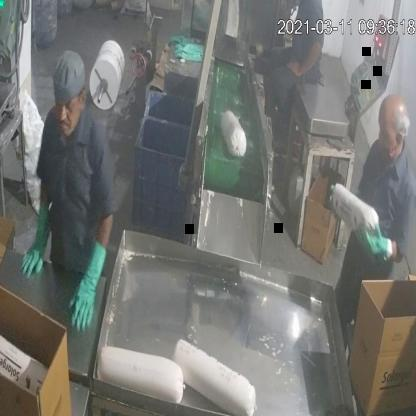glove: (63, 239, 116, 338), (23, 205, 57, 286)
no_glove: (282, 36, 324, 91)
